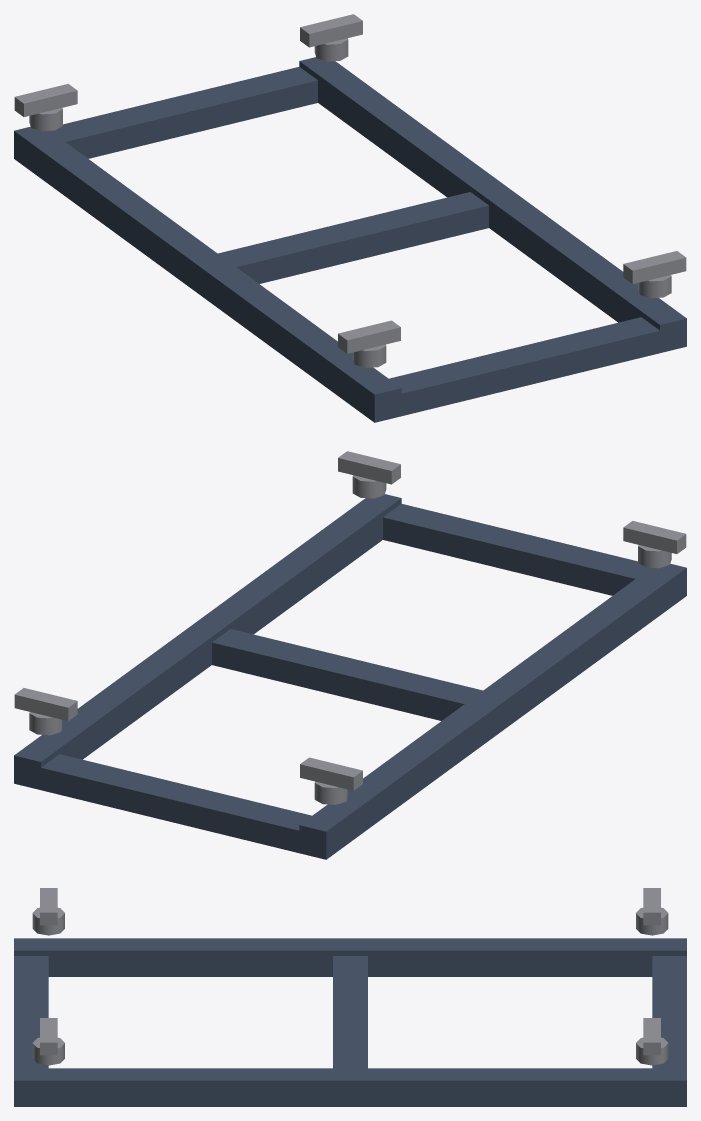
The model's file is pb8_rail_mount.obj.
The picture shows the model from 3 angles, top to bottom: view 1: azimuth 30°, elevation 25°; view 2: azimuth 150°, elevation 25°; view 3: azimuth 270°, elevation 25°; orthographic projection. The views are drawn at different scales.
Visible parts, largest first — view 1: pb8_rail_mount; view 2: pb8_rail_mount; view 3: pb8_rail_mount.
Boxes of the visible parts, left/top/right/bottom form: pb8_rail_mount: left=14, top=14, right=686, bottom=422; pb8_rail_mount: left=14, top=451, right=686, bottom=859; pb8_rail_mount: left=14, top=888, right=686, bottom=1106.
Size of the model in its own units: 0.63 by 0.134 by 1.16.
